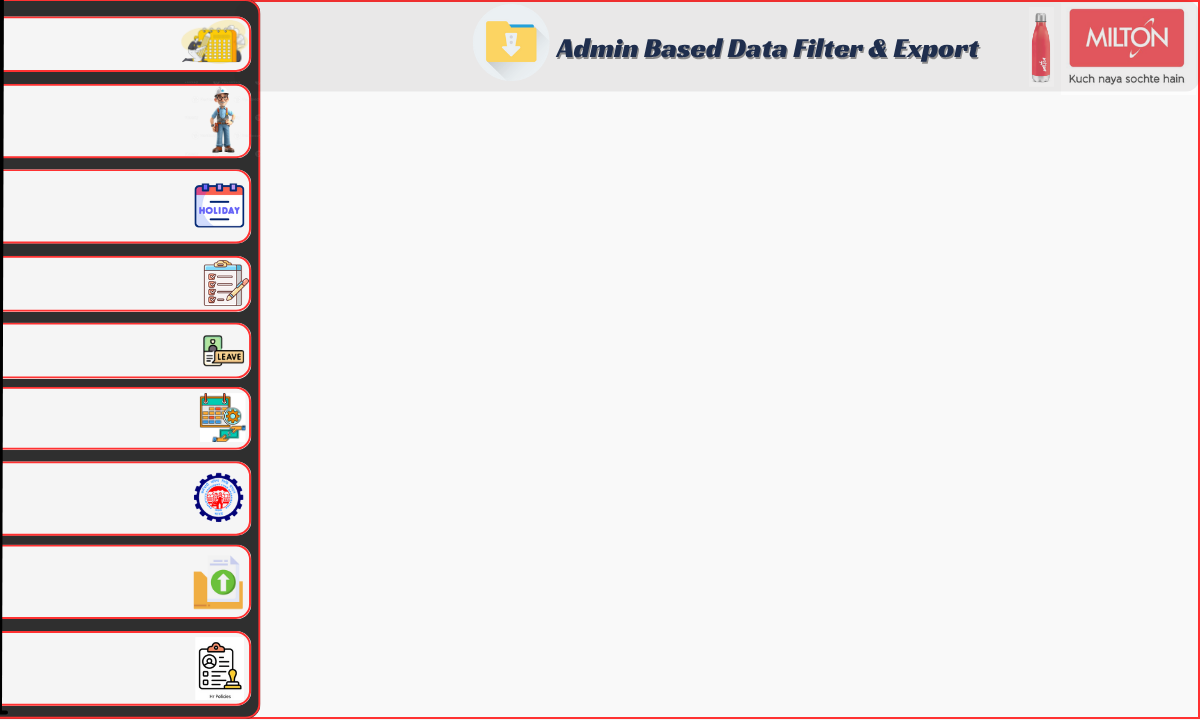

The dashboard page shown, as its layout file describes it:
{"tool":"powerbi","page":{"name":"HR Essentials & Policies","canvas":[1280,720],"ordinal":16},"visuals":[{"type":"actionButton","title":"HR Quick Overview","box":[12,24,181.8,40.6],"z":0},{"type":"actionButton","title":"HR Quick Overview","box":[12,91.6,216.3,60.1],"z":1000},{"type":"actionButton","title":"HR Quick Overview","box":[12,178.8,216.3,60.1],"z":2000},{"type":"actionButton","title":"HR Quick Overview","box":[12,253.9,216.3,60.1],"z":3000},{"type":"actionButton","title":"HR Quick Overview","box":[12,320,216.3,60.1],"z":4000},{"type":"actionButton","title":"HR Quick Overview","box":[12,392.1,216.3,60.1],"z":5000},{"type":"actionButton","title":"HR Quick Overview","box":[12,468.7,216.3,60.1],"z":6000},{"type":"actionButton","title":"HR Quick Overview","box":[12,551.4,216.3,60.1],"z":7000},{"type":"actionButton","title":"HR Quick Overview","box":[12,640,216.3,60.1],"z":8000},{"type":"shape","box":[279.9,92.3,999.8,627.6],"z":9000},{"type":"textbox","title":"📋 HR Essentials & Policies","box":[285.7,109.6,988.3,595.9],"z":12000}]}

Visuals, with their boxes on the page's 1280x720 design canvas (x1, y1, x2, y2). These are canvas units, not pixel positions in the 1200x720 screenshot, which may show the page scaled, cropped or inside an application window:
"HR Quick Overview" actionButton: rect(12, 24, 194, 65)
"HR Quick Overview" actionButton: rect(12, 92, 228, 152)
"HR Quick Overview" actionButton: rect(12, 179, 228, 239)
"HR Quick Overview" actionButton: rect(12, 254, 228, 314)
"HR Quick Overview" actionButton: rect(12, 320, 228, 380)
"HR Quick Overview" actionButton: rect(12, 392, 228, 452)
"HR Quick Overview" actionButton: rect(12, 469, 228, 529)
"HR Quick Overview" actionButton: rect(12, 551, 228, 612)
"HR Quick Overview" actionButton: rect(12, 640, 228, 700)
shape: rect(280, 92, 1280, 720)
"📋 HR Essentials & Policies" textbox: rect(286, 110, 1274, 706)
